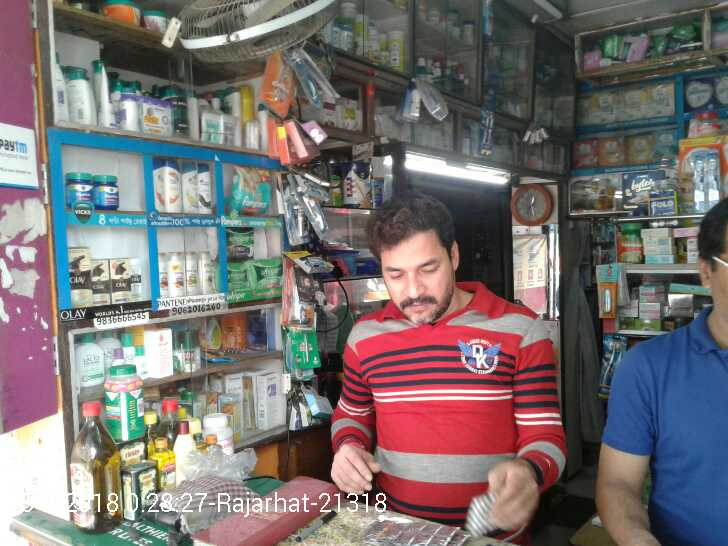vicks: (65, 171, 119, 211)
